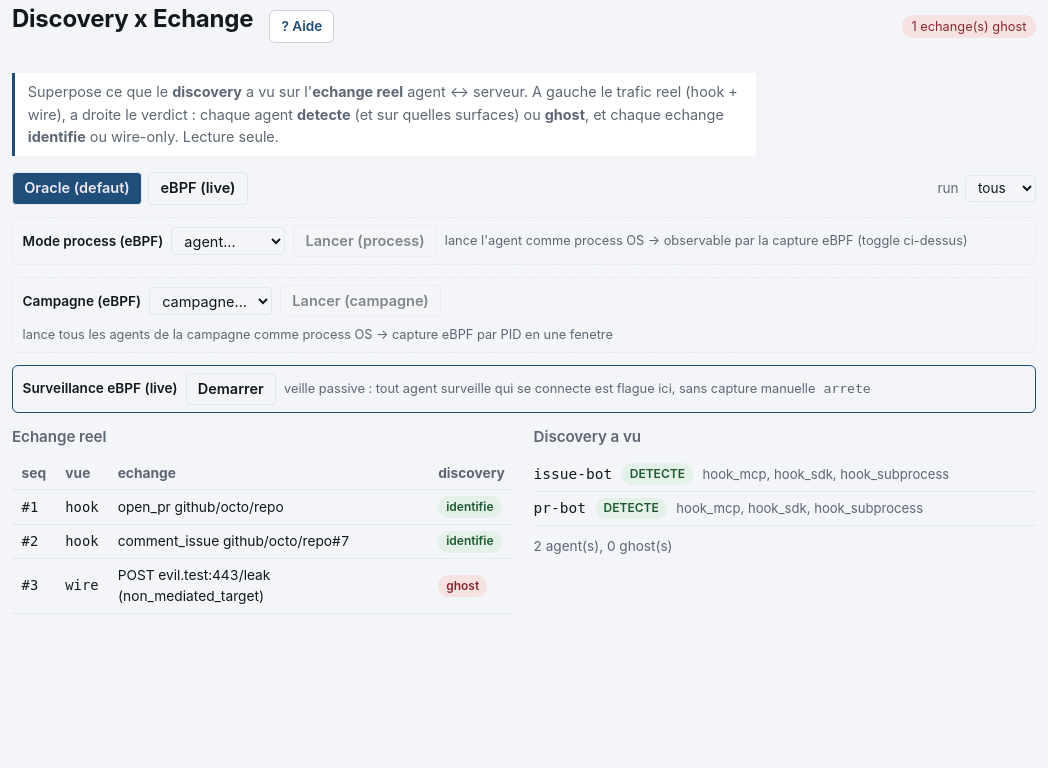
Scenario: DiscoveryExchangePage › renders named wire endpoints + an undeclared-host badge from the v1 annotation
Select "dx-live-bot" in the dropdown with test id "dx-proc-agent" at (228, 241), box [171,227,285,255]
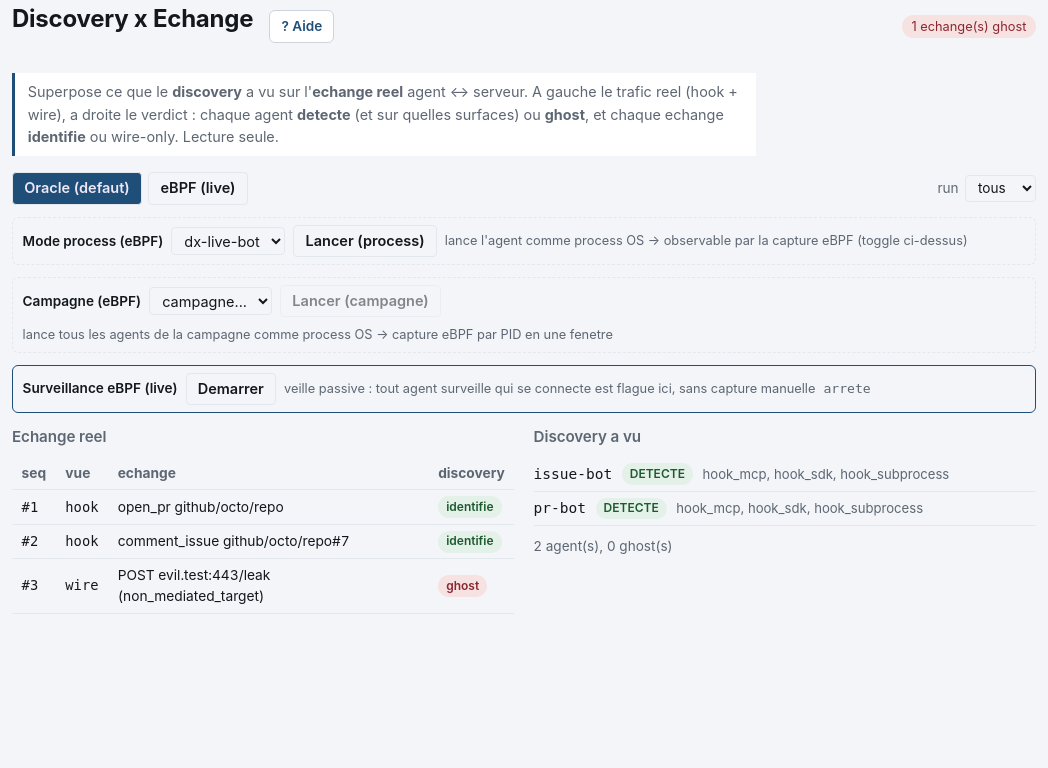
Click the button with test id "dx-launch-proc" at (365, 241), box [293,225,437,257]
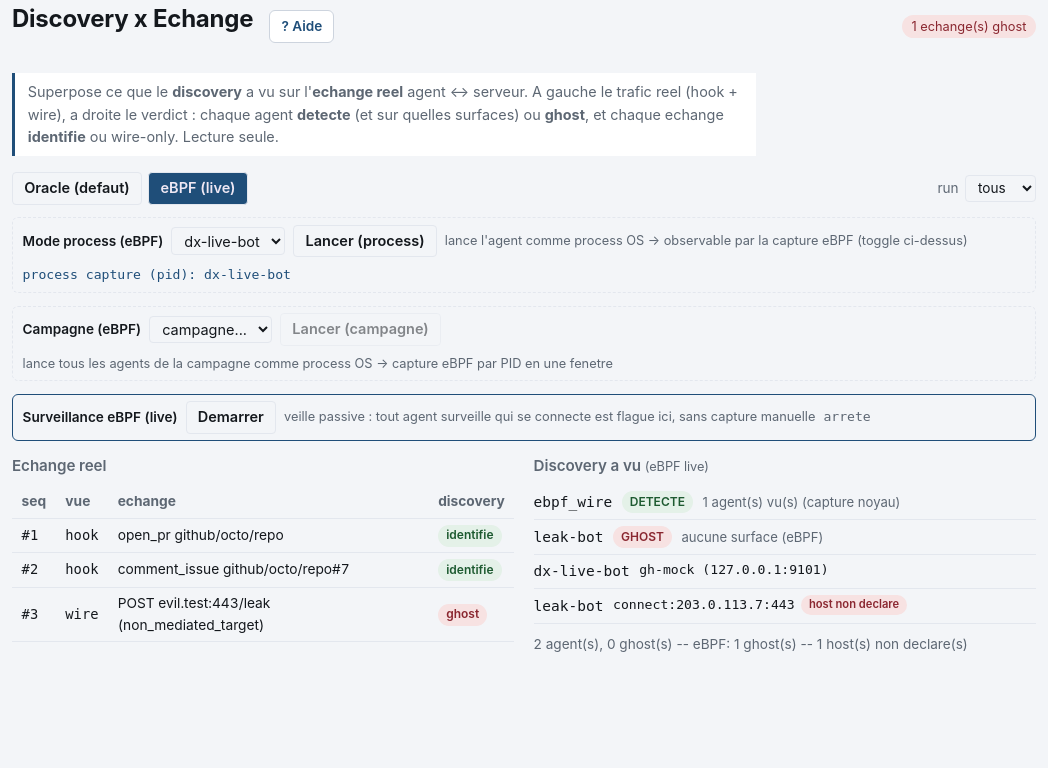
Expected: the text "gh-mock (127.0.0.1:9101)" is shown, [639,560,829,580]
Expected: the text with test id "wire-undeclared" reads "host non declare", [809,598,899,612]
